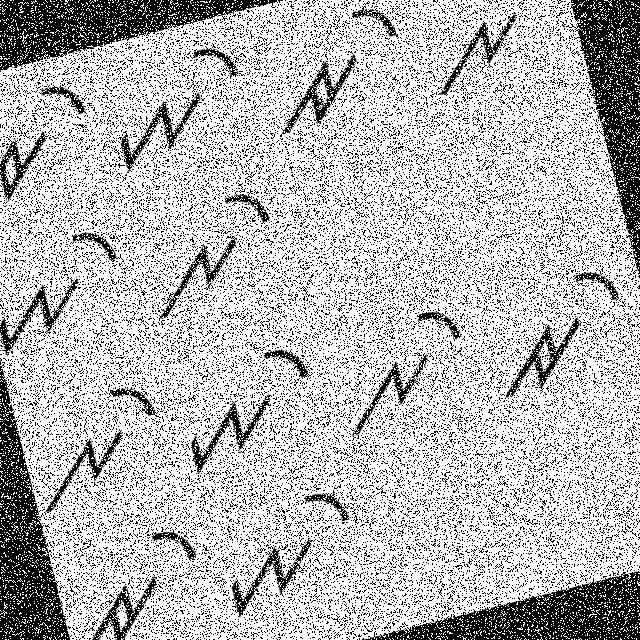lay: (317, 293, 487, 456), (129, 172, 301, 329), (16, 373, 178, 525), (412, 0, 575, 103)
ray: (475, 247, 639, 413), (249, 1, 418, 141), (55, 516, 227, 639), (0, 73, 111, 228)
yay: (162, 328, 331, 479), (88, 34, 260, 177), (208, 478, 374, 624), (0, 220, 137, 361)
